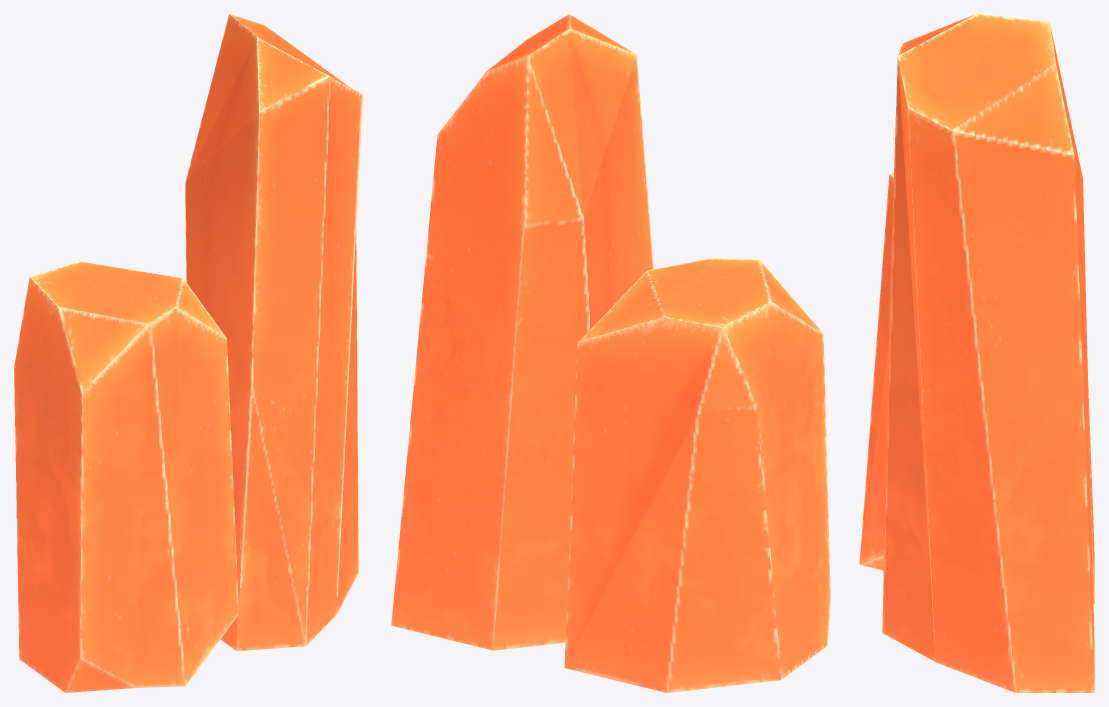
3 views of the same model, side by side, from view 1: azimuth 30°, elevation 25°; view 2: azimuth 150°, elevation 25°; view 3: azimuth 270°, elevation 25° (orthographic). The views are drawn at different scales.
Visible parts, largest first — view 1: 2; view 2: 2; view 3: 2.
Part boxes in pixels (box(x1,y1,x2,y2)): 2: box(14, 14, 362, 692); 2: box(391, 14, 830, 692); 2: box(859, 14, 1094, 692).
Bounding box in the file's own units: 245 × 394 × 136.
